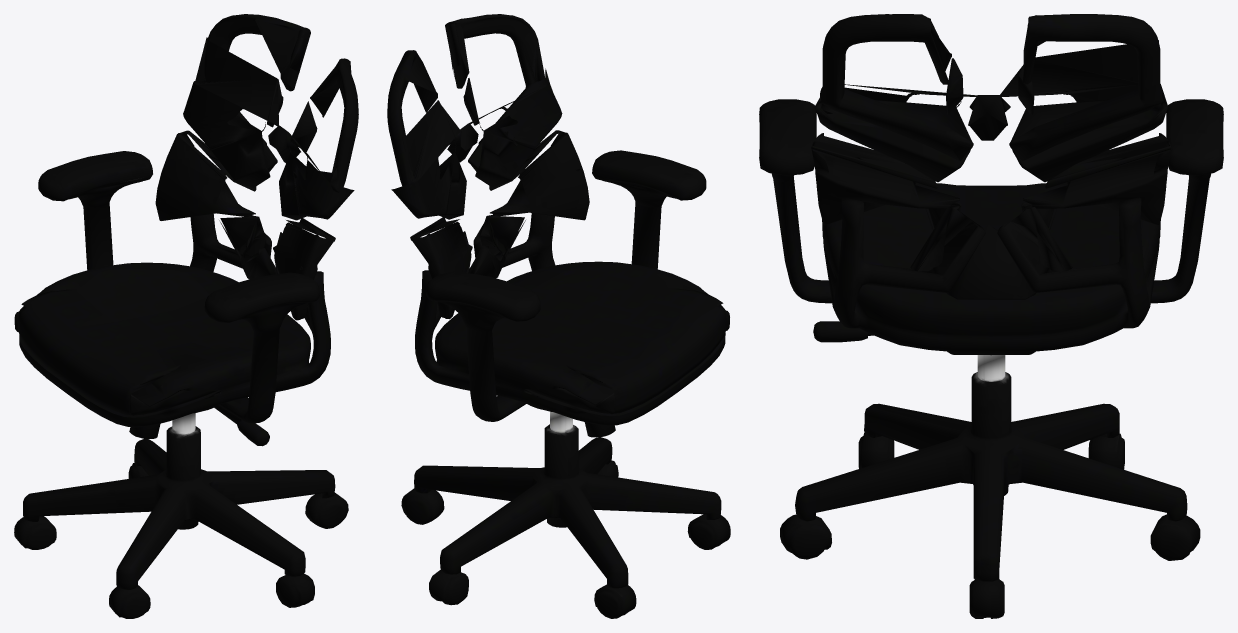
Rendered from broken_office_chair_1dc3c50c_v2.glb.
3 views of the same model, side by side, from view 1: azimuth 30°, elevation 25°; view 2: azimuth 150°, elevation 25°; view 3: azimuth 270°, elevation 25° (orthographic). The views are drawn at different scales.
Visible parts, largest first — view 1: material; view 2: material; view 3: material.
Part boxes in pixels (x1,y1,x2,y2): material: [14, 14, 358, 618]; material: [387, 14, 730, 618]; material: [759, 14, 1223, 618].
Size of the model in its own units: 1.12 by 1.9 by 1.34.
Materials: 1 (1 with a texture image).
